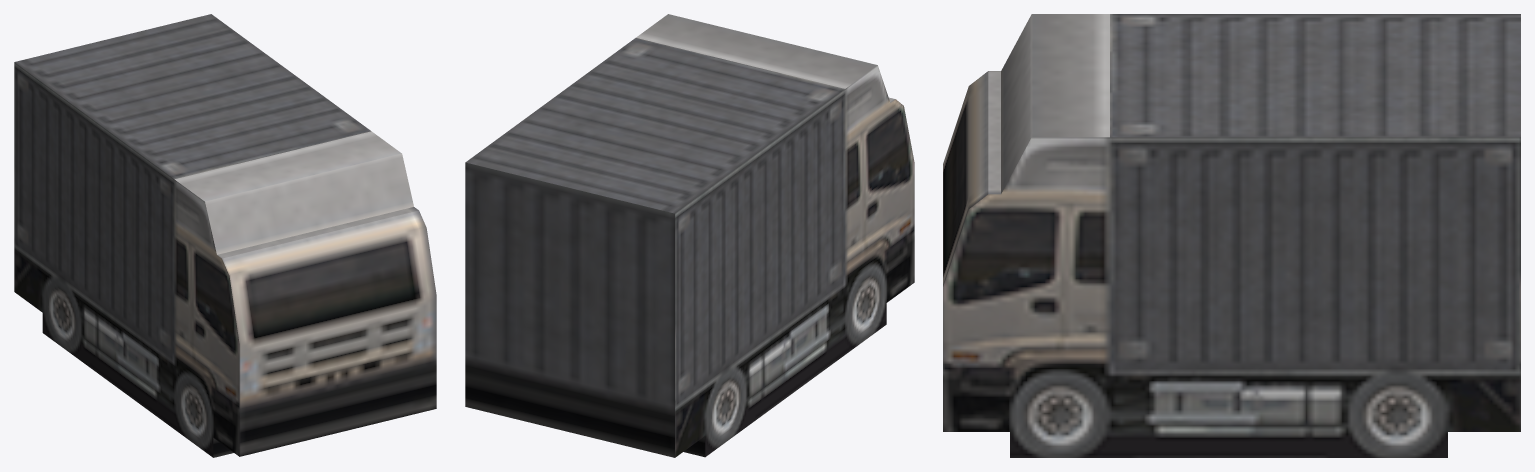
The model's file is truck_grey.glb.
The picture shows the model from 3 angles, left to right: view 1: azimuth 30°, elevation 25°; view 2: azimuth 150°, elevation 25°; view 3: azimuth 270°, elevation 25°; orthographic projection. The views are drawn at different scales.
Parts seen in each view (by area): view 1: truck_grey; view 2: truck_grey; view 3: truck_grey.
Boxes of the visible parts, left/top/right/bottom form: truck_grey: left=14, top=14, right=436, bottom=457; truck_grey: left=465, top=14, right=914, bottom=457; truck_grey: left=943, top=14, right=1520, bottom=457.
Bounding box in the file's own units: 0.83 × 1.01 × 1.64.
Materials: 1 (1 with a texture image).
